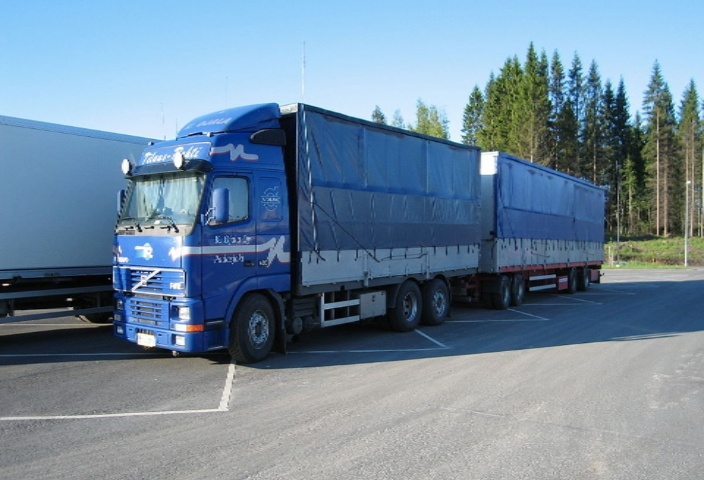truck: (110, 78, 625, 374)
